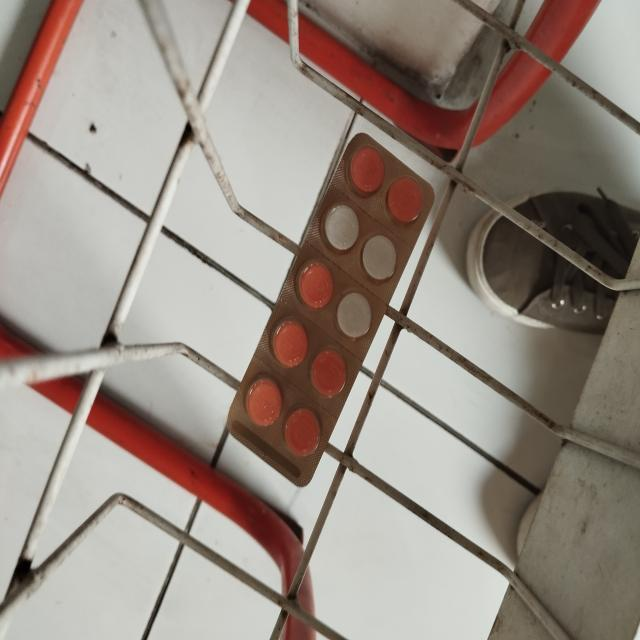B3: (227, 130, 437, 492)
